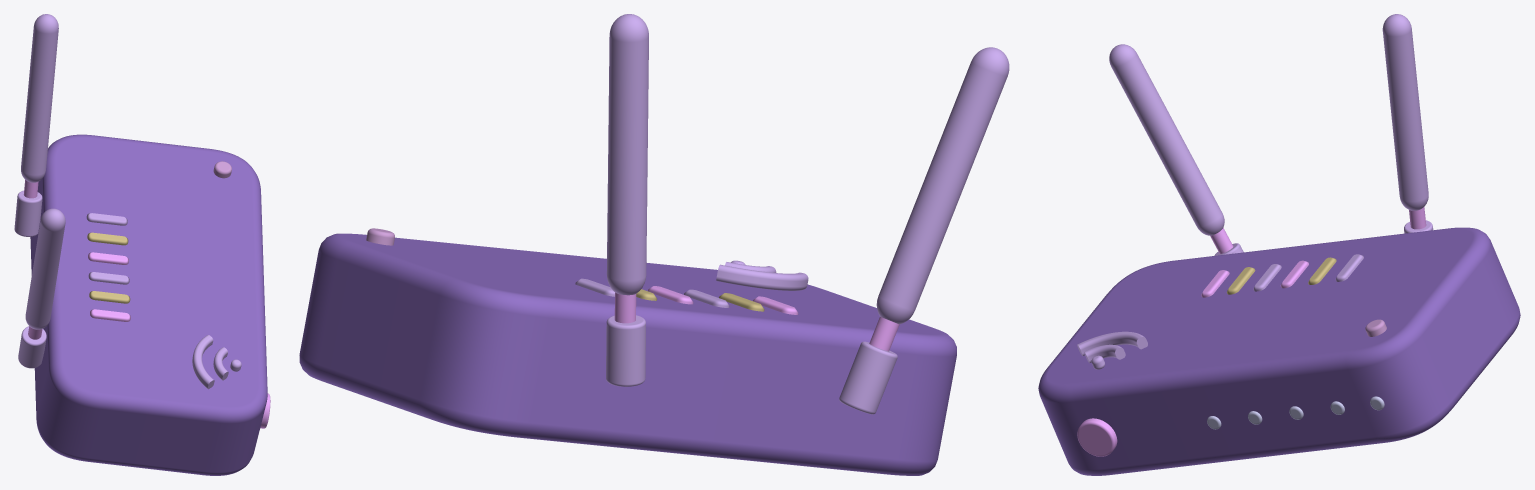
The model's file is Router.gltf.
The picture shows the model from 3 angles, left to right: view 1: azimuth 30°, elevation 25°; view 2: azimuth 150°, elevation 25°; view 3: azimuth 270°, elevation 25°; orthographic projection. The views are drawn at different scales.
Parts seen in each view (by area): view 1: Rectangle 2, Cylinder 4 (×2), Cylinder 3, Cylinder, Cylinder 14, Rectangle 5, Rectangle 8, Rectangle 7, Rectangle 4, Rectangle 3, Rectangle 6, Cylinder 13; view 2: Rectangle 2, Cylinder 4 (×2), Cylinder 3, Cylinder, Cylinder 14; view 3: Rectangle 2, Cylinder 3, Cylinder 4, Cylinder 5, Cylinder 14.
Boxes of the visible parts, left/top/right/bottom form: Rectangle 2: left=30, top=134, right=267, bottom=475; Cylinder 4 (×2): left=14, top=14, right=58, bottom=236; Cylinder 3: left=25, top=208, right=65, bottom=329; Cylinder: left=18, top=326, right=46, bottom=368; Cylinder 14: left=192, top=335, right=214, bottom=389; Rectangle 5: left=88, top=272, right=129, bottom=284; Rectangle 8: left=86, top=213, right=127, bottom=225; Rectangle 7: left=87, top=232, right=128, bottom=245; Rectangle 4: left=89, top=291, right=130, bottom=303; Rectangle 3: left=90, top=309, right=130, bottom=321; Rectangle 6: left=88, top=252, right=128, bottom=264; Cylinder 13: left=213, top=347, right=228, bottom=380; Rectangle 2: left=299, top=233, right=956, bottom=475; Cylinder 4 (×2): left=606, top=14, right=648, bottom=386; Cylinder 3: left=876, top=47, right=1009, bottom=324; Cylinder: left=839, top=341, right=897, bottom=414; Cylinder 14: left=716, top=264, right=808, bottom=290; Rectangle 2: left=1038, top=227, right=1520, bottom=475; Cylinder 3: left=1109, top=44, right=1224, bottom=235; Cylinder 4: left=1382, top=14, right=1428, bottom=210; Cylinder 5: left=1077, top=418, right=1117, bottom=456; Cylinder 14: left=1077, top=331, right=1147, bottom=355.
Bounding box in the file's own units: 1.27 × 1.37 × 1.4.
